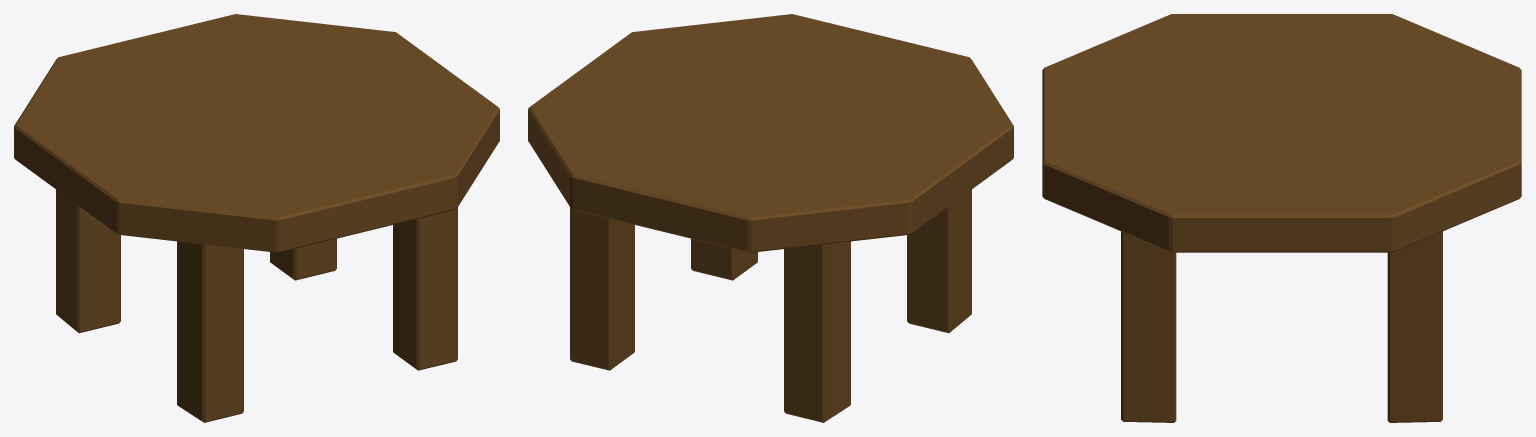
File: Table01.fbx
3 renders of one model, left to right at view 1: azimuth 30°, elevation 25°; view 2: azimuth 150°, elevation 25°; view 3: azimuth 270°, elevation 25°, orthographic. The views are drawn at different scales.
Parts seen in each view (by area): view 1: TableRound.001; view 2: TableRound.001; view 3: TableRound.001.
Boxes of the visible parts, x1,y1,x2,y2 form: TableRound.001: [14, 14, 499, 422]; TableRound.001: [528, 14, 1013, 422]; TableRound.001: [1042, 14, 1521, 422].
Bounding box in the file's own units: 280 × 155 × 280.
